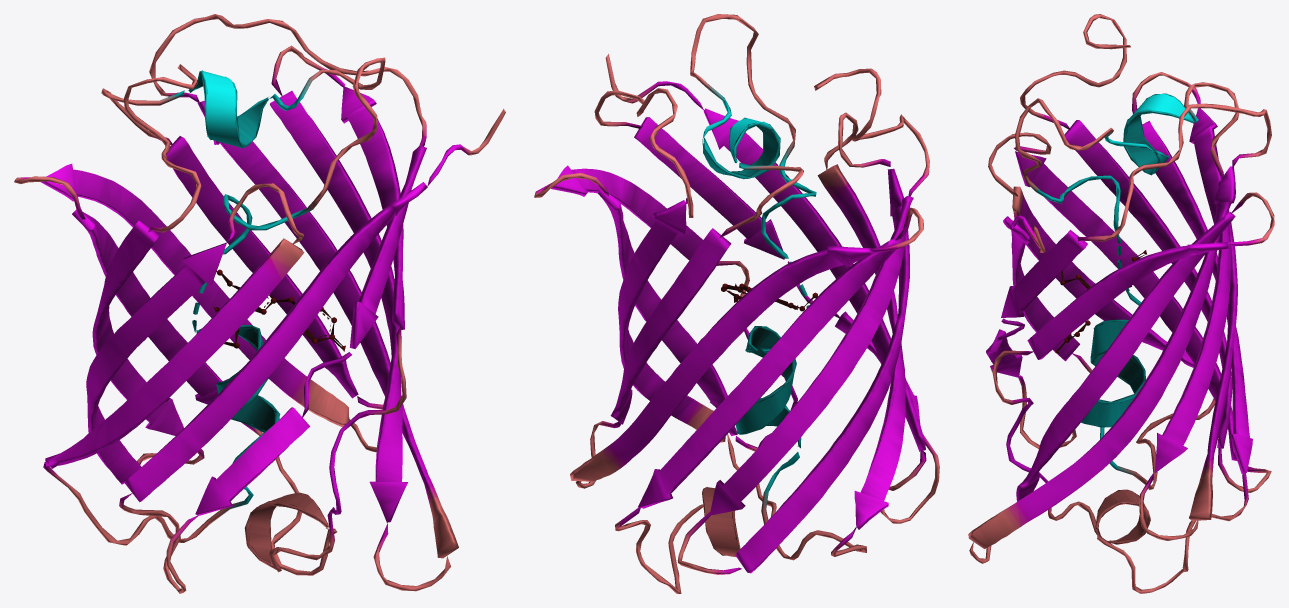
Rendered from mcherry.glb.
The picture shows the model from 3 angles, left to right: view 1: azimuth 30°, elevation 25°; view 2: azimuth 150°, elevation 25°; view 3: azimuth 270°, elevation 25°; orthographic projection. The views are drawn at different scales.
Visible parts, largest first — view 1: Mcherry; view 2: Mcherry; view 3: Mcherry.
Boxes of the visible parts, box(x1,y1,x2,y2) form: Mcherry: box(14, 14, 505, 593); Mcherry: box(534, 14, 939, 593); Mcherry: box(968, 14, 1274, 593).
Size of the model in its own units: 0.3646 by 0.479 by 0.2655.
